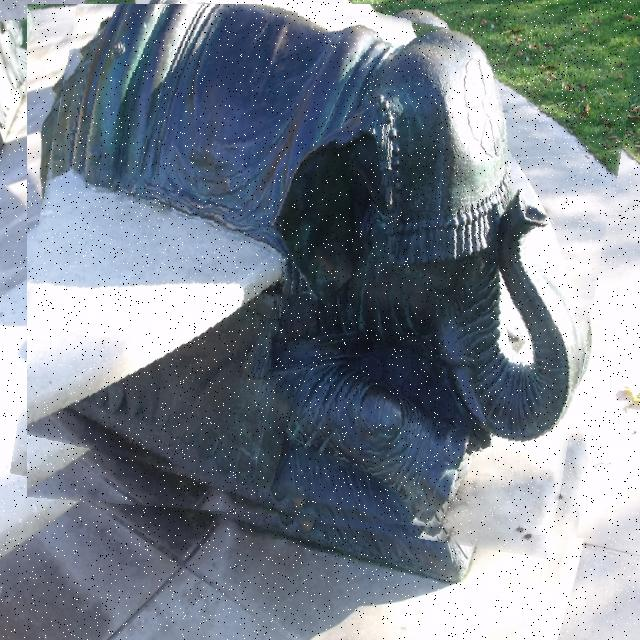elephant: (27, 4, 616, 540)
